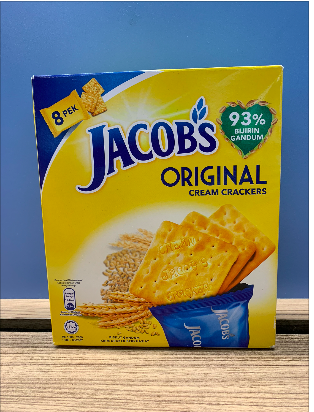Crackers_200-299g: (47, 86, 275, 339)
